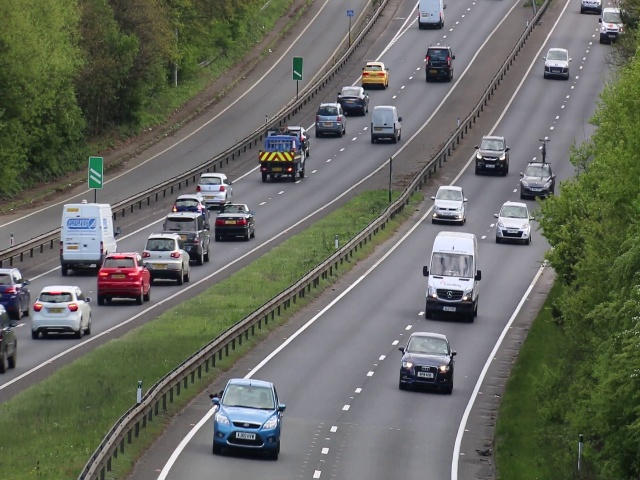car: (209, 375, 283, 458), (427, 231, 478, 324), (59, 200, 117, 272), (398, 328, 454, 399), (32, 283, 91, 341), (259, 122, 307, 182), (97, 253, 150, 305), (140, 234, 191, 284), (491, 201, 532, 246), (215, 201, 256, 242), (473, 133, 510, 176), (194, 167, 232, 208), (1, 267, 31, 317), (520, 156, 554, 198), (431, 182, 465, 224), (161, 212, 210, 240), (368, 104, 400, 144), (314, 101, 347, 137), (425, 45, 456, 83), (543, 44, 569, 81), (338, 85, 369, 115), (169, 192, 209, 214), (416, 1, 446, 30), (361, 59, 389, 89), (600, 8, 619, 44)
